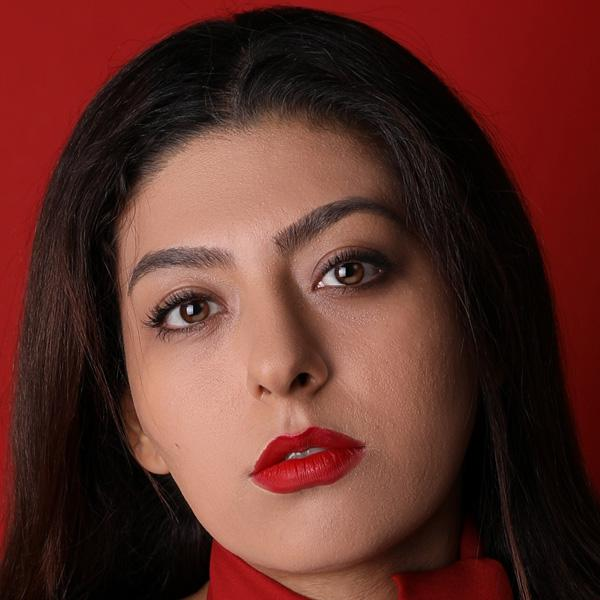Eyes: (142, 281, 233, 354), (307, 238, 399, 304)
